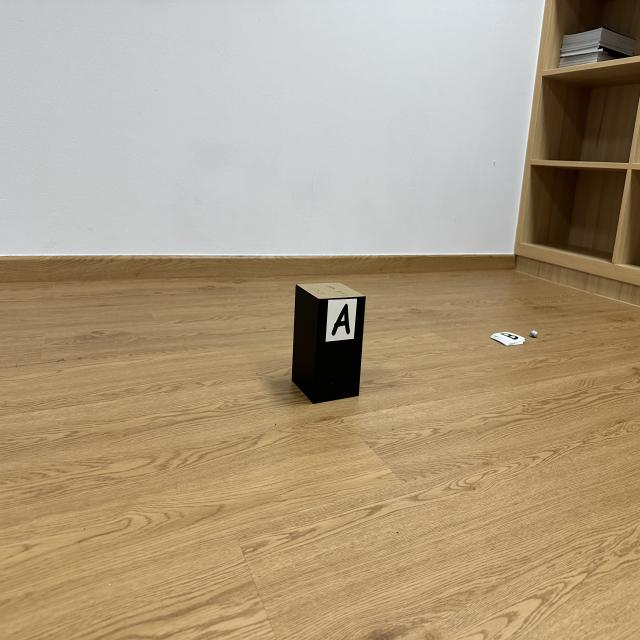A: (331, 303, 350, 335)
